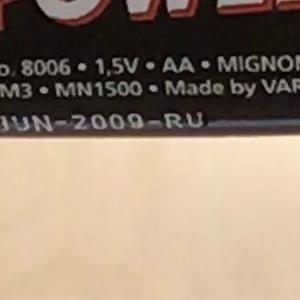keyword: (87, 49, 147, 83)
